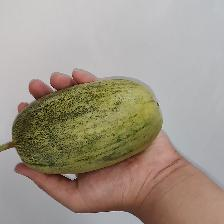gua: (8, 81, 148, 156)
